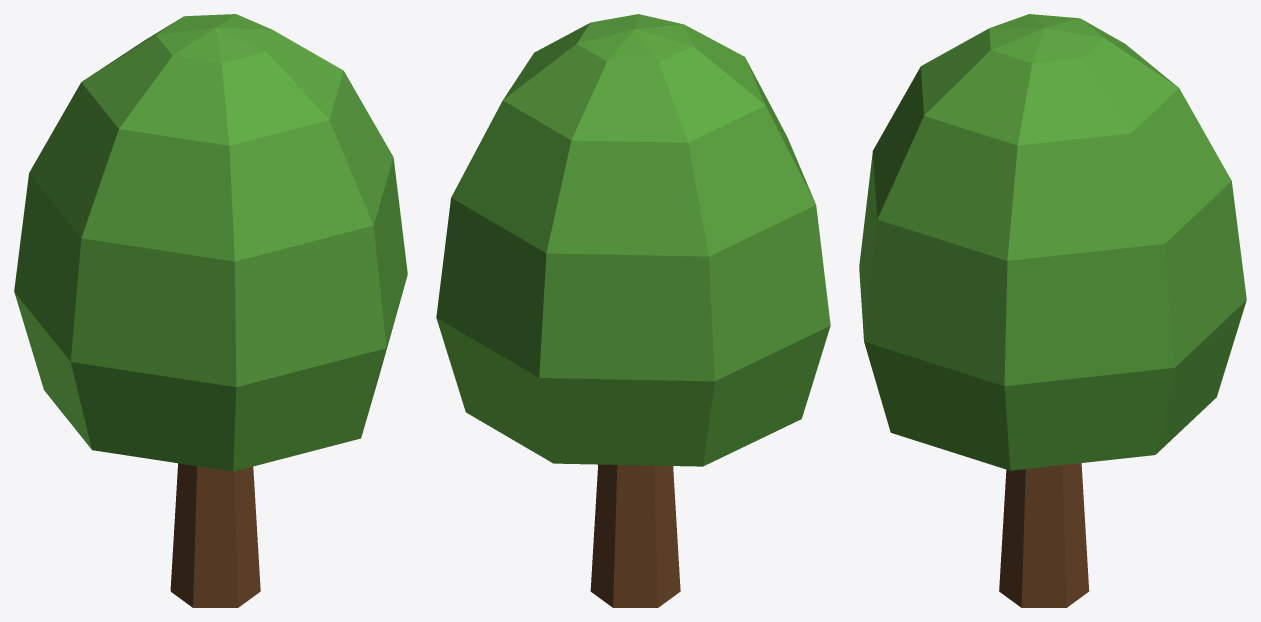
File: tree_2.glb
3 views of the same model, side by side, from view 1: azimuth 30°, elevation 25°; view 2: azimuth 150°, elevation 25°; view 3: azimuth 270°, elevation 25° (orthographic).
Visible parts, largest first — view 1: Tree; view 2: Tree; view 3: Tree.
Part boxes in pixels (x1,y1,x2,y2): Tree: (14, 14, 407, 607); Tree: (436, 14, 830, 607); Tree: (859, 14, 1246, 607).
Bounding box in the file's own units: 2.11 × 3.31 × 2.07.
